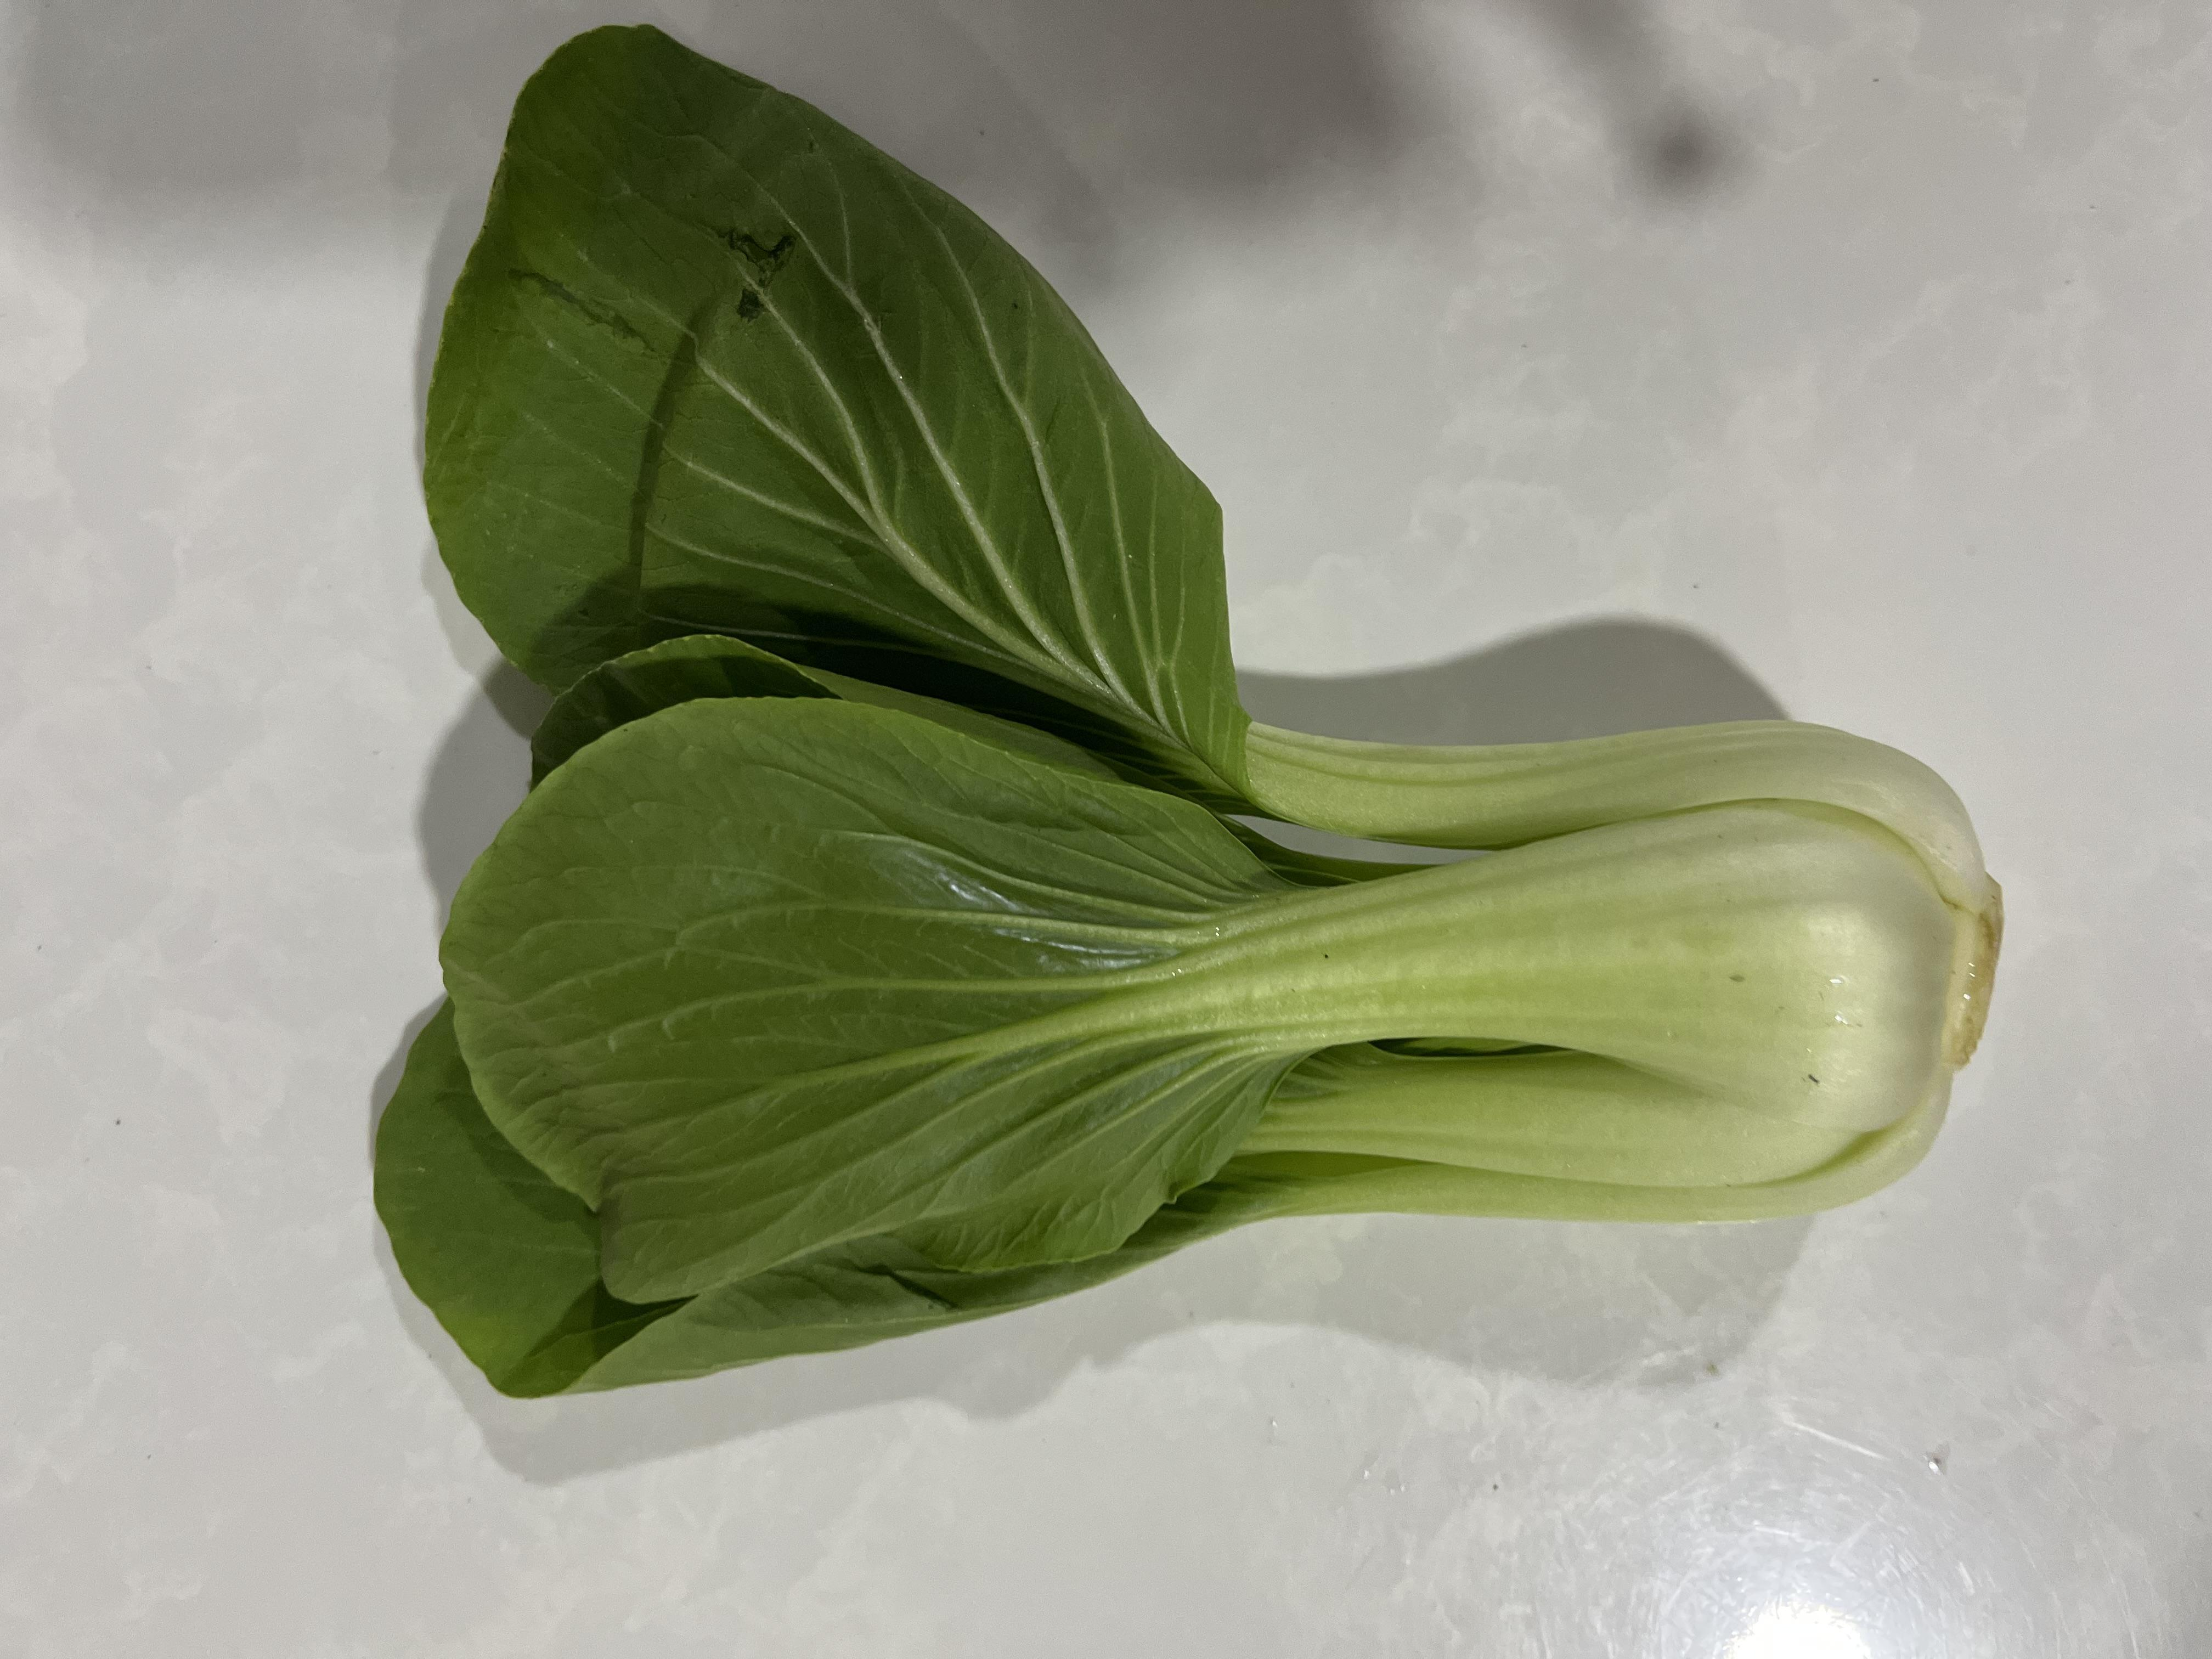Healthy-Pechay: (329, 23, 1986, 1453)
